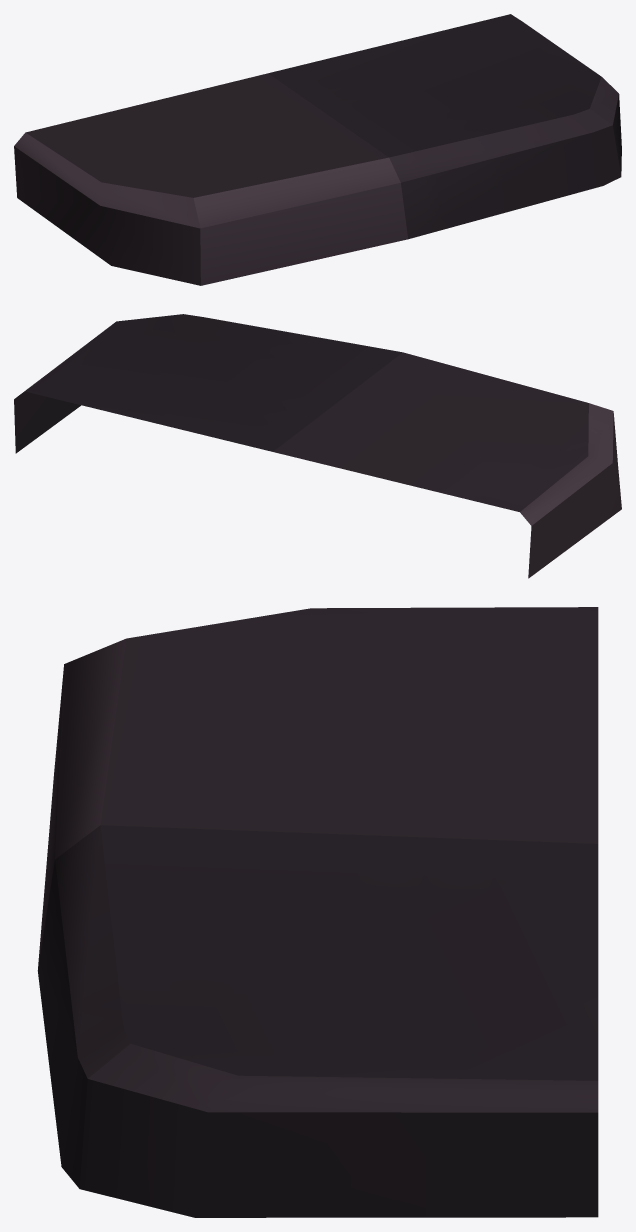
Rendered from floor_pit_edge_1.fbx.
3 renders of one model, top to bottom at view 1: azimuth 30°, elevation 25°; view 2: azimuth 150°, elevation 25°; view 3: azimuth 270°, elevation 25°, orthographic. The views are drawn at different scales.
Parts seen in each view (by area): view 1: floor_pit_edge_1; view 2: floor_pit_edge_1; view 3: floor_pit_edge_1.
Boxes of the visible parts, <box> form: floor_pit_edge_1: <box>14,14,621,285</box>; floor_pit_edge_1: <box>14,314,621,578</box>; floor_pit_edge_1: <box>37,607,598,1217</box>.
Bounding box in the file's own units: 210 × 28.42 × 100.
